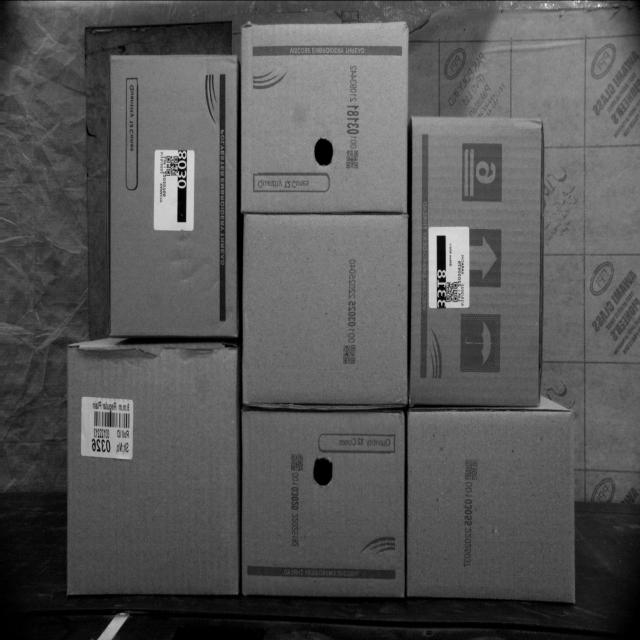cardboxes: (69, 348, 238, 598), (409, 115, 548, 406), (110, 50, 238, 341), (242, 212, 410, 409), (406, 410, 574, 602), (241, 20, 407, 214), (241, 412, 404, 596), (13, 366, 20, 375)
